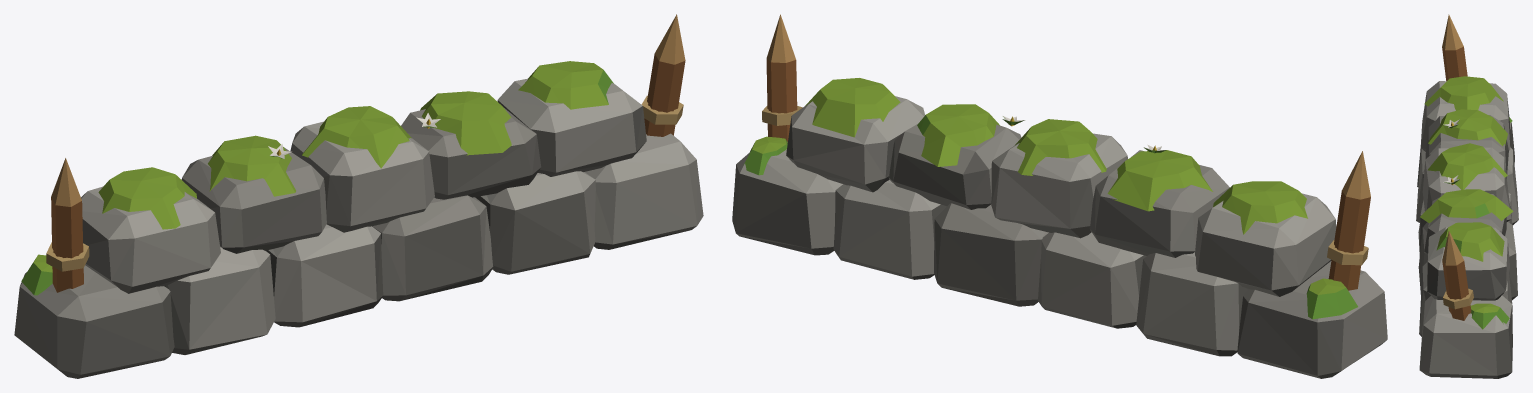
The model's file is barricade_stone.glb.
The picture shows the model from 3 angles, left to right: view 1: azimuth 30°, elevation 25°; view 2: azimuth 150°, elevation 25°; view 3: azimuth 270°, elevation 25°; orthographic projection. The views are drawn at different scales.
Visible parts, largest first — view 1: barricade_stone; view 2: barricade_stone; view 3: barricade_stone.
Boxes of the visible parts, bbox=[...] form: barricade_stone: bbox=[14, 14, 703, 378]; barricade_stone: bbox=[732, 14, 1387, 378]; barricade_stone: bbox=[1416, 14, 1518, 378].
Bounding box in the file's own units: 3.02 × 0.9372 × 0.5855.
